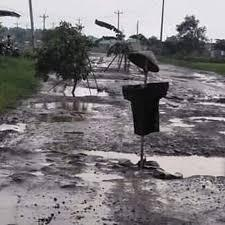Pothole: (73, 136, 225, 187), (17, 99, 131, 129), (38, 71, 116, 101), (164, 110, 225, 144), (0, 110, 38, 157), (172, 62, 225, 94), (0, 164, 59, 188), (160, 93, 225, 107), (90, 52, 121, 73)
